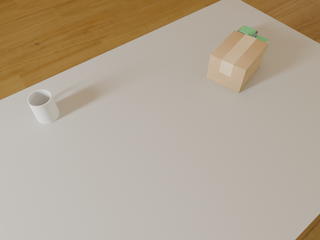box: (207, 30, 268, 93)
cup: (27, 89, 60, 124)
toy_car: (237, 25, 268, 43)
